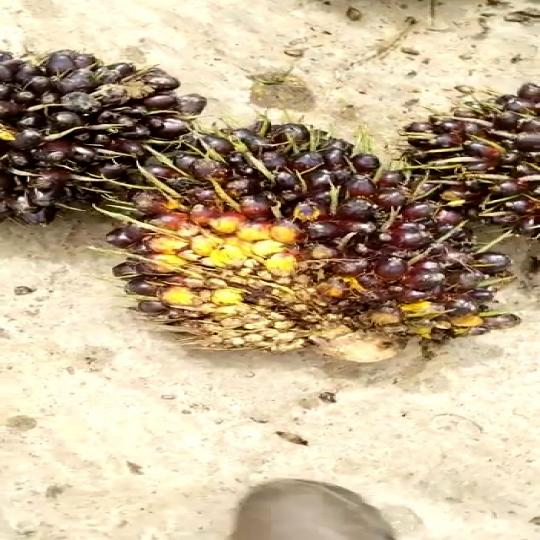mentah: (123, 120, 516, 374), (0, 41, 221, 215)
